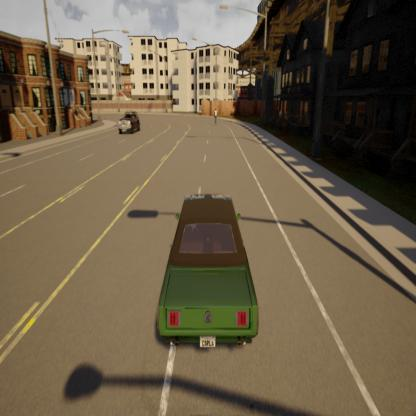Cars: (145, 182, 265, 357), (117, 108, 144, 138)
